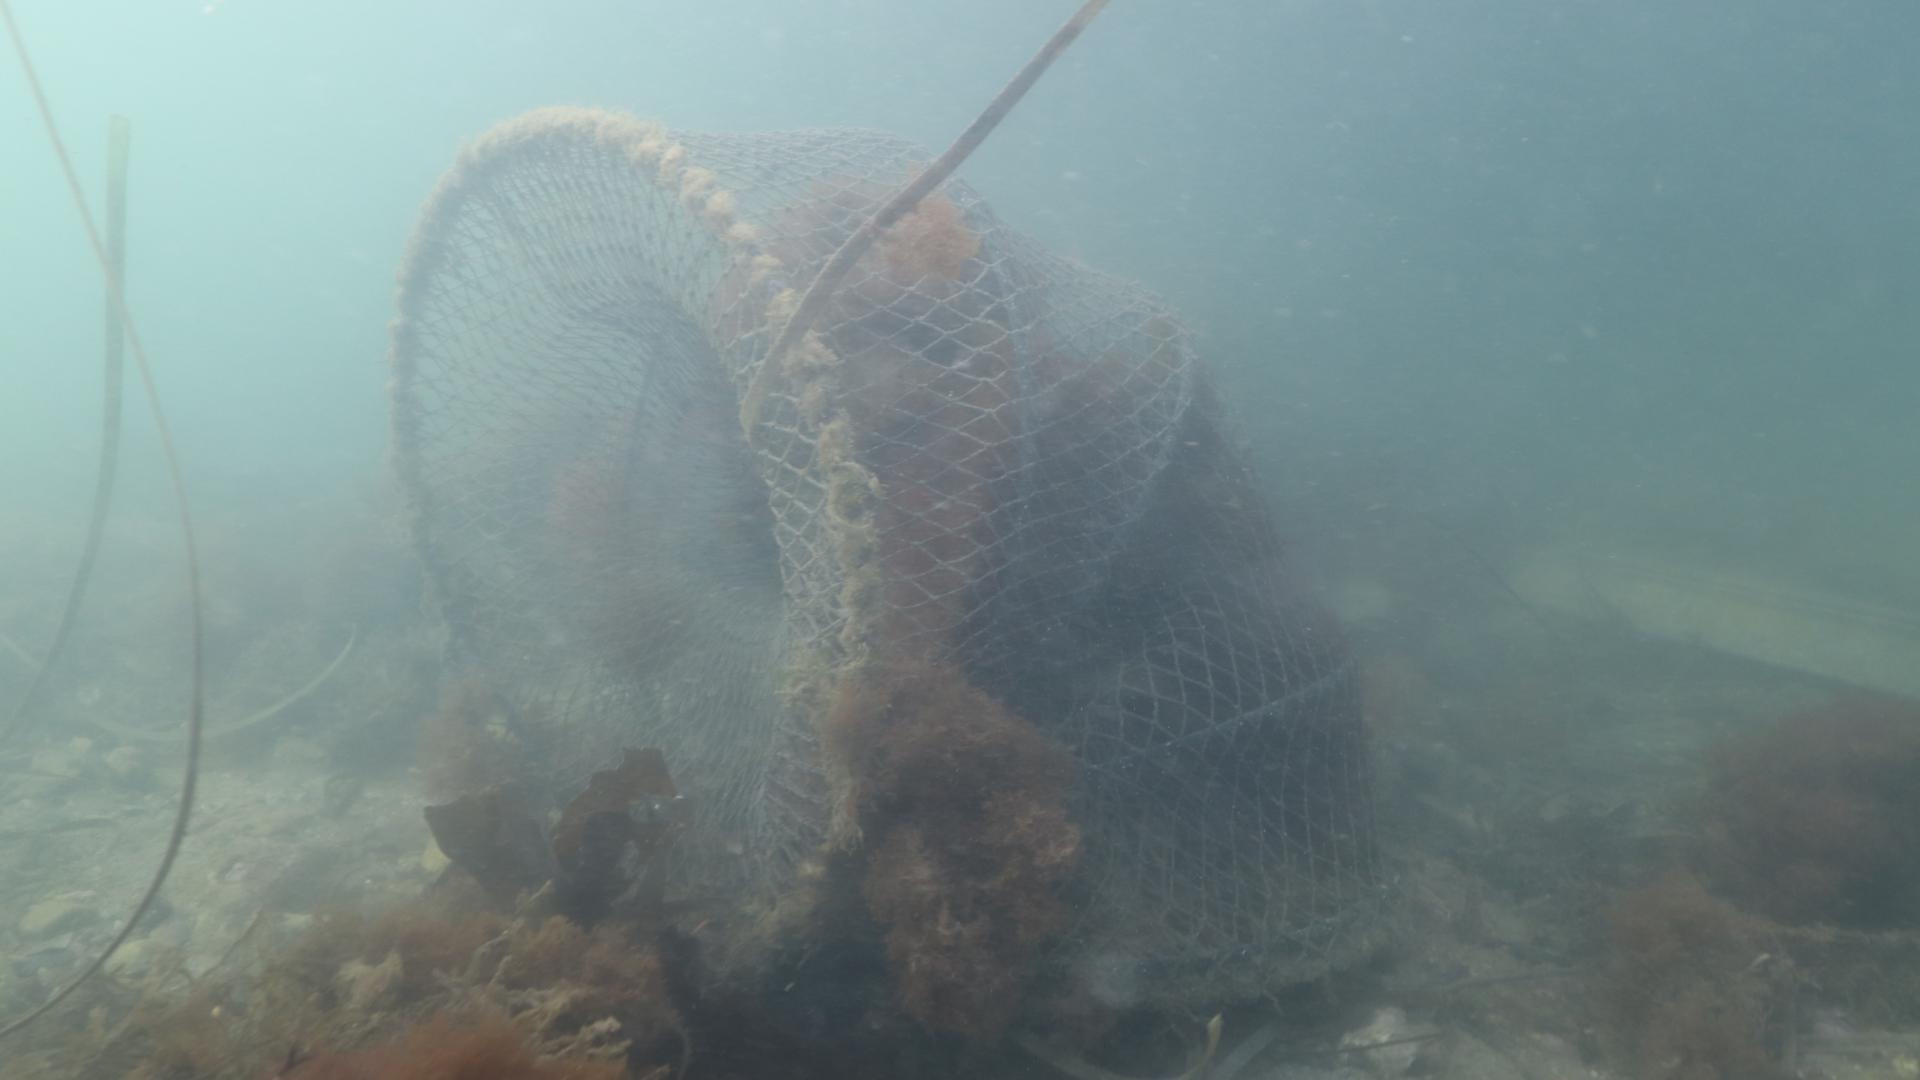spring fish trap: (378, 104, 1404, 1007)
